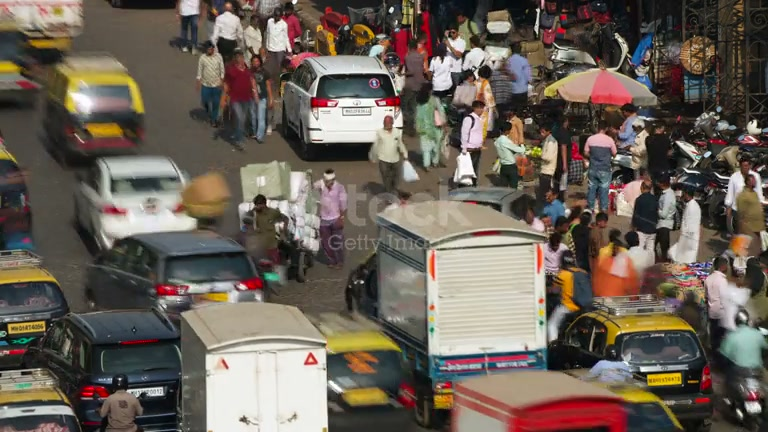car: (25, 307, 184, 430), (557, 303, 714, 427), (85, 230, 268, 315), (450, 369, 689, 429), (279, 54, 403, 161), (72, 154, 196, 255), (42, 50, 147, 168), (325, 330, 419, 430), (0, 251, 71, 368), (0, 368, 83, 431), (0, 136, 36, 253)
motorcycle: (713, 363, 768, 431)
pedestrian: (717, 309, 768, 406), (723, 153, 768, 256), (312, 168, 348, 268), (224, 50, 260, 146), (368, 113, 409, 193), (593, 230, 641, 298), (584, 123, 617, 216), (98, 374, 144, 432), (670, 186, 702, 265), (196, 42, 225, 128), (494, 119, 527, 190), (631, 180, 659, 254)
truck: (343, 195, 547, 424), (177, 301, 330, 431)
